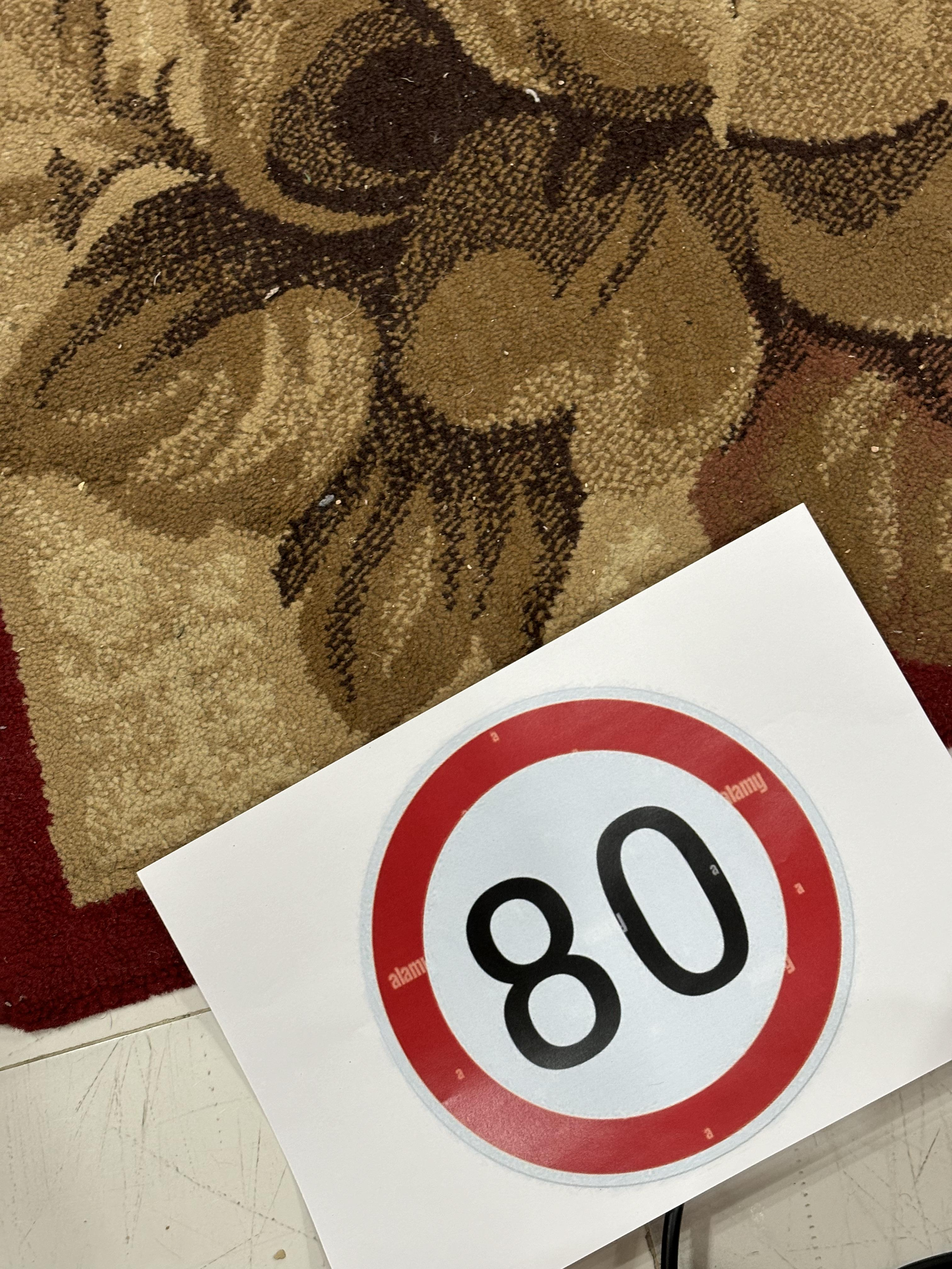80-Speed: (366, 680, 855, 1180)
